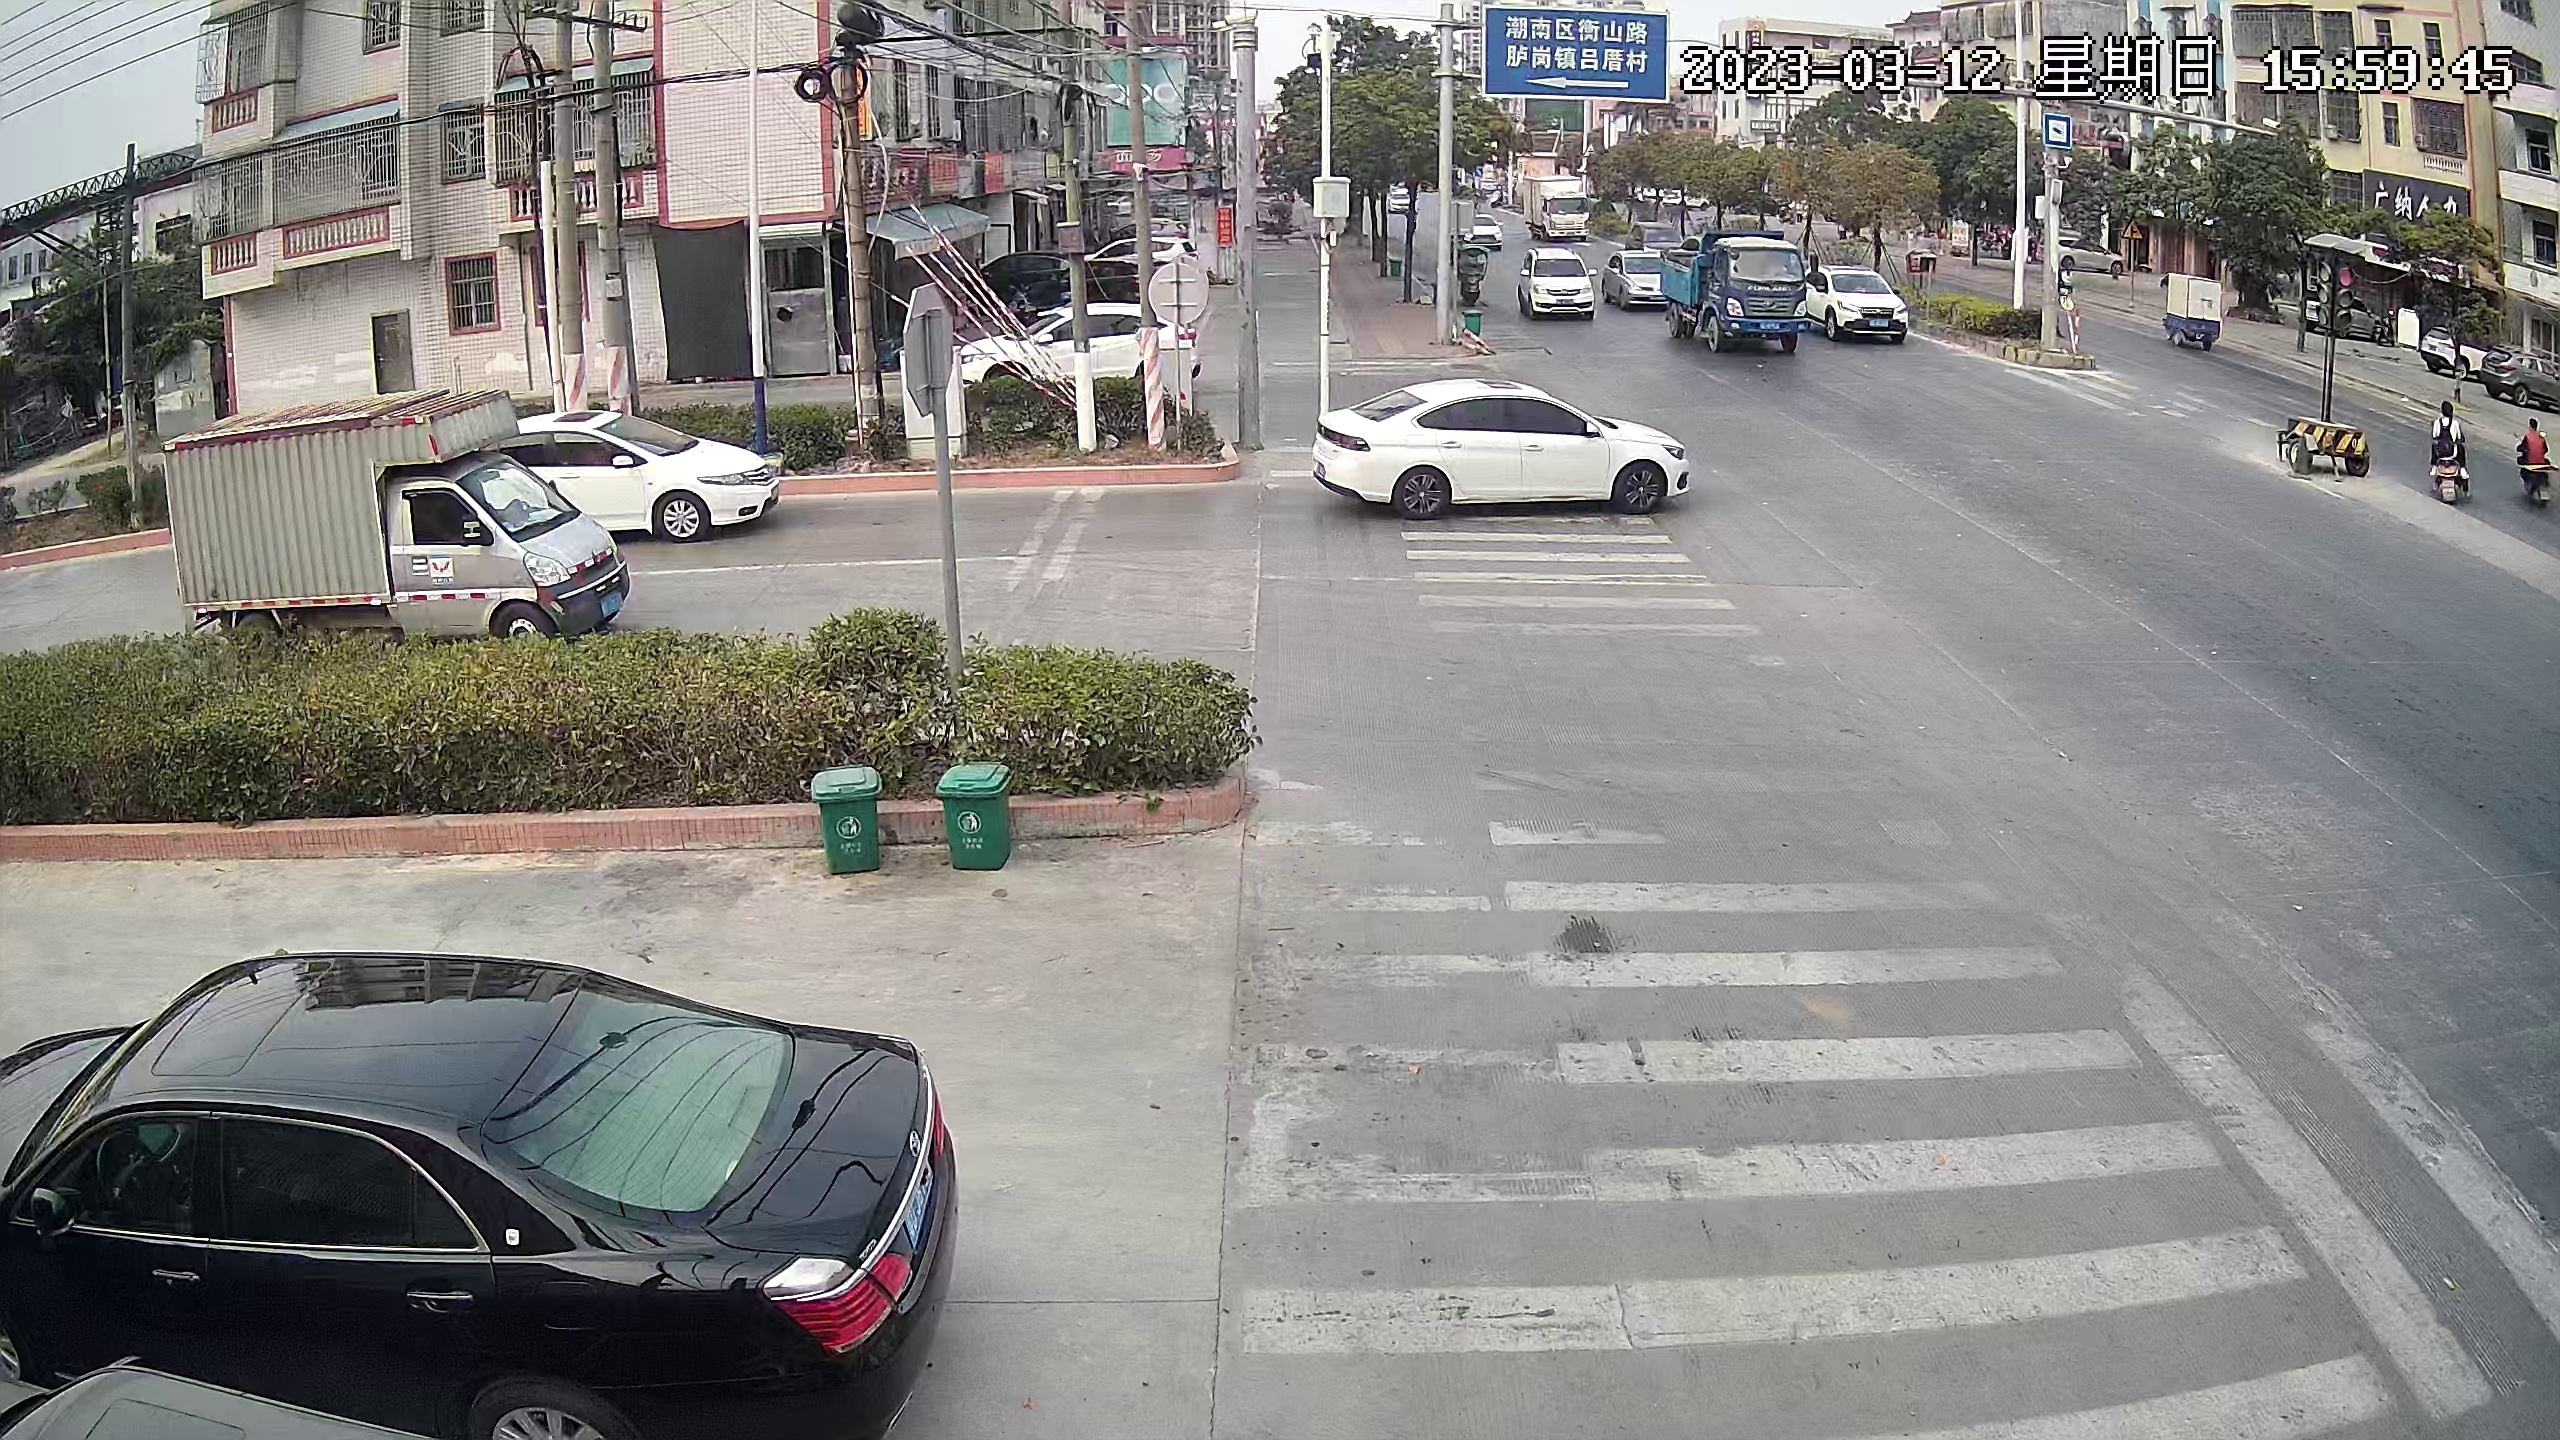motorcycle: (2425, 394, 2474, 510), (2514, 417, 2558, 513), (1454, 237, 1493, 318)
sedan: (2, 948, 965, 1435), (1313, 380, 1691, 524), (533, 408, 779, 540), (993, 250, 1097, 302), (1101, 234, 1203, 273), (1607, 251, 1667, 315), (2055, 237, 2124, 280), (1466, 213, 1503, 246), (1393, 188, 1415, 222)
suv: (951, 308, 1203, 392), (1804, 264, 1911, 352), (1517, 244, 1598, 329), (2490, 346, 2560, 418), (2303, 281, 2379, 346), (2423, 320, 2483, 376)
tricycle: (2164, 269, 2228, 359)
truck: (162, 404, 629, 642), (1660, 229, 1807, 360), (1517, 174, 1595, 239)
